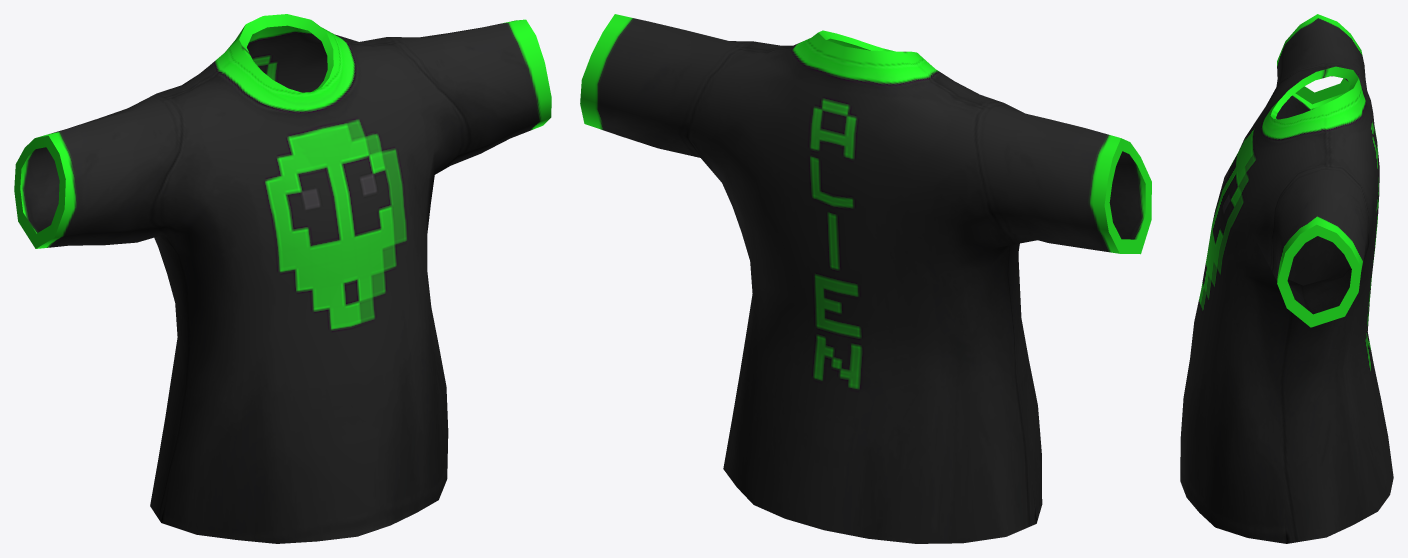
File: TShirt_38.glb
The picture shows the model from 3 angles, left to right: view 1: azimuth 30°, elevation 25°; view 2: azimuth 150°, elevation 25°; view 3: azimuth 270°, elevation 25°; orthographic projection. The views are drawn at different scales.
Parts seen in each view (by area): view 1: TShirt_LP.001; view 2: TShirt_LP.001; view 3: TShirt_LP.001.
Boxes of the visible parts, box(x1,y1,x2,y2) form: TShirt_LP.001: box(14, 14, 551, 543); TShirt_LP.001: box(580, 14, 1151, 543); TShirt_LP.001: box(1180, 14, 1393, 543).
Size of the model in its own units: 0.6266 by 0.5314 by 0.2526.
1 material, 1 textured.
